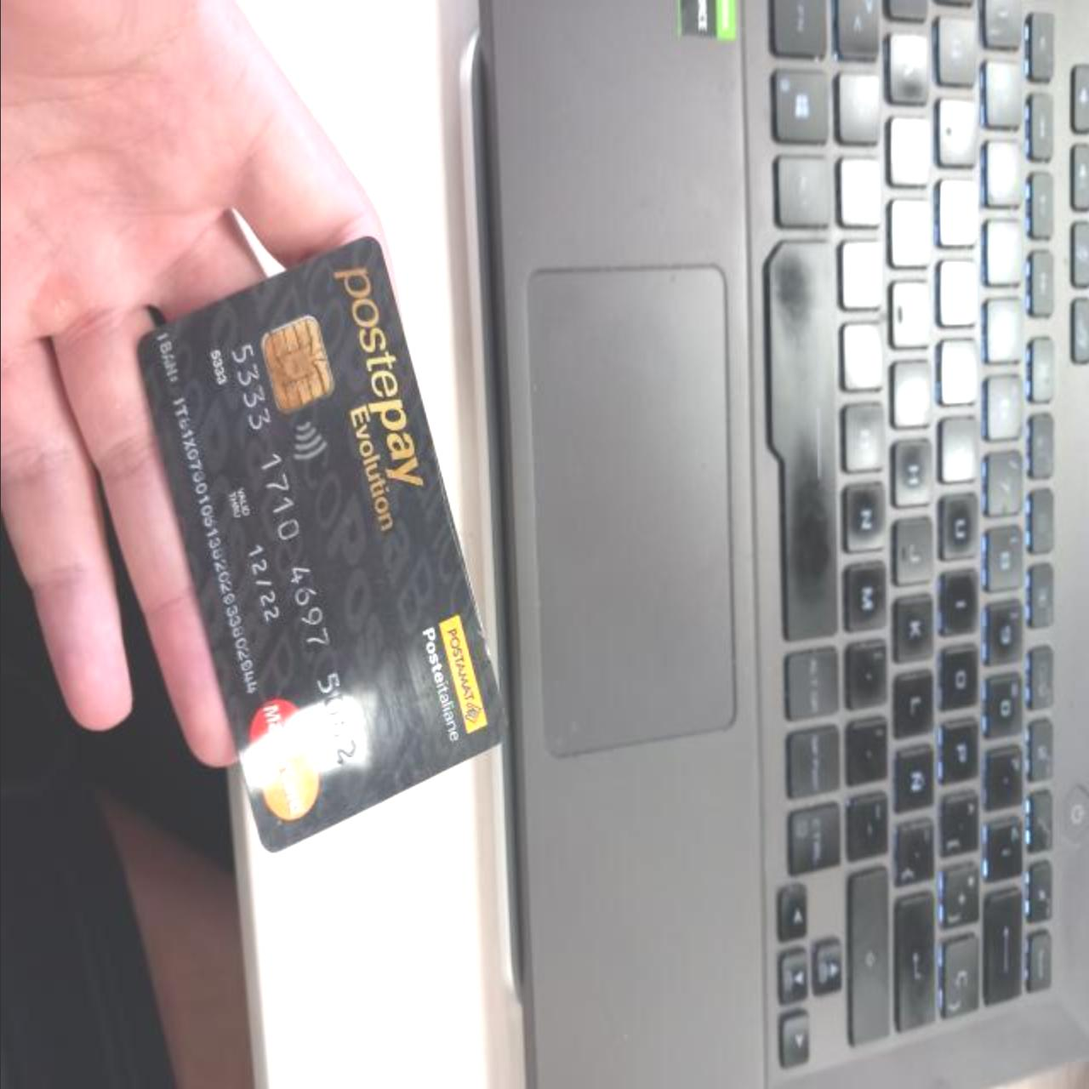credit_card: (143, 231, 514, 858)
